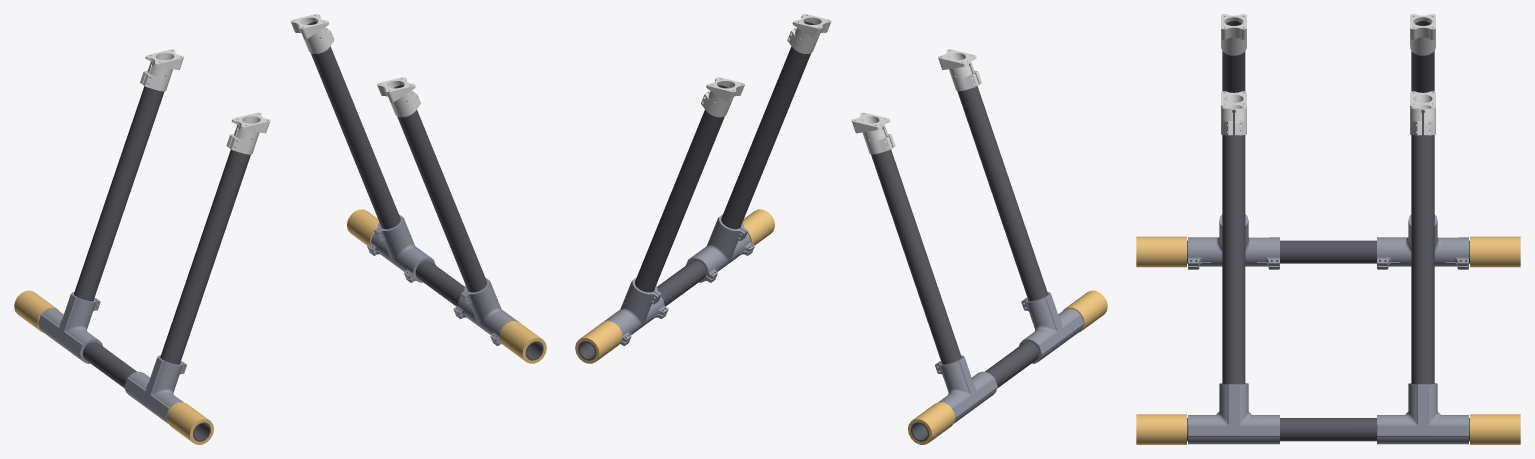
File: 1300_landing_gear.glb
3 views of the same model, side by side, from view 1: azimuth 30°, elevation 25°; view 2: azimuth 150°, elevation 25°; view 3: azimuth 270°, elevation 25° (orthographic). The views are drawn at different scales.
Parts seen in each view (by area): view 1: SOLID (×10), 1344-BL (×4), 1334-BL (×4); view 2: SOLID (×10), 1344-BL (×4), 1334-BL (×4); view 3: SOLID (×10), 1344-BL (×4), 1334-BL (×4).
Boxes of the visible parts, x1,y1,x2,y2 form: SOLID (×10): (14,22,546,444); 1344-BL (×4): (37,214,519,423); 1334-BL (×4): (140,14,420,154); SOLID (×10): (575,22,1107,444); 1344-BL (×4): (602,214,1084,423); 1334-BL (×4): (701,14,981,154); SOLID (×10): (1136,21,1520,444); 1344-BL (×4): (1188,214,1468,444); 1334-BL (×4): (1221,14,1435,135).
Size of the model in its own units: 0.5871 by 0.4229 by 0.5.
